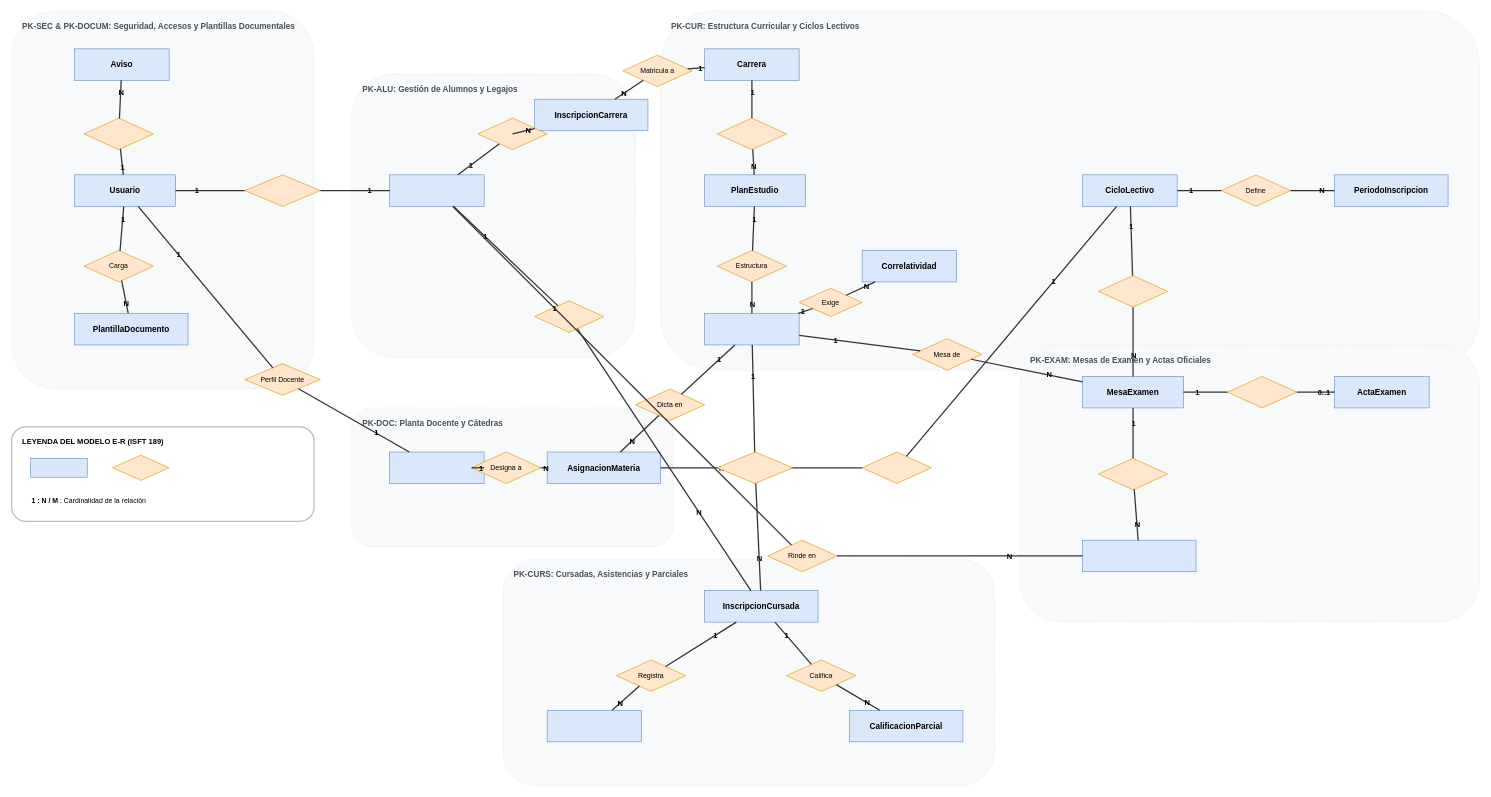
The diagram is 1491 pixels wide and 797 high, and some of its shapes have lost their labels. The centre of each missing label's shape, as x and y in pixels:
Alumno: the point at 436,190
Asistencia: the point at 594,726
Cursa: the point at 569,316
Docente: the point at 436,467
Entidad: the point at 58,467
Genera: the point at 1262,392
Habilita: the point at 896,467
Incluye: the point at 1133,474
InscripcionExamen: the point at 1139,556
Materia: the point at 751,329
Perfil Alumno: the point at 282,190
Programa en: the point at 1133,291
Publica: the point at 118,133
Relación: the point at 140,467
Se Inscribe en: the point at 755,467
Se Matricula: the point at 512,133
Tiene: the point at 752,133
